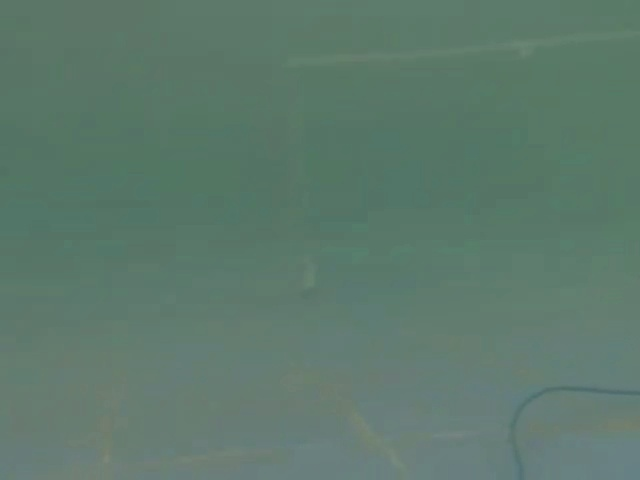gate: (254, 24, 640, 342)
